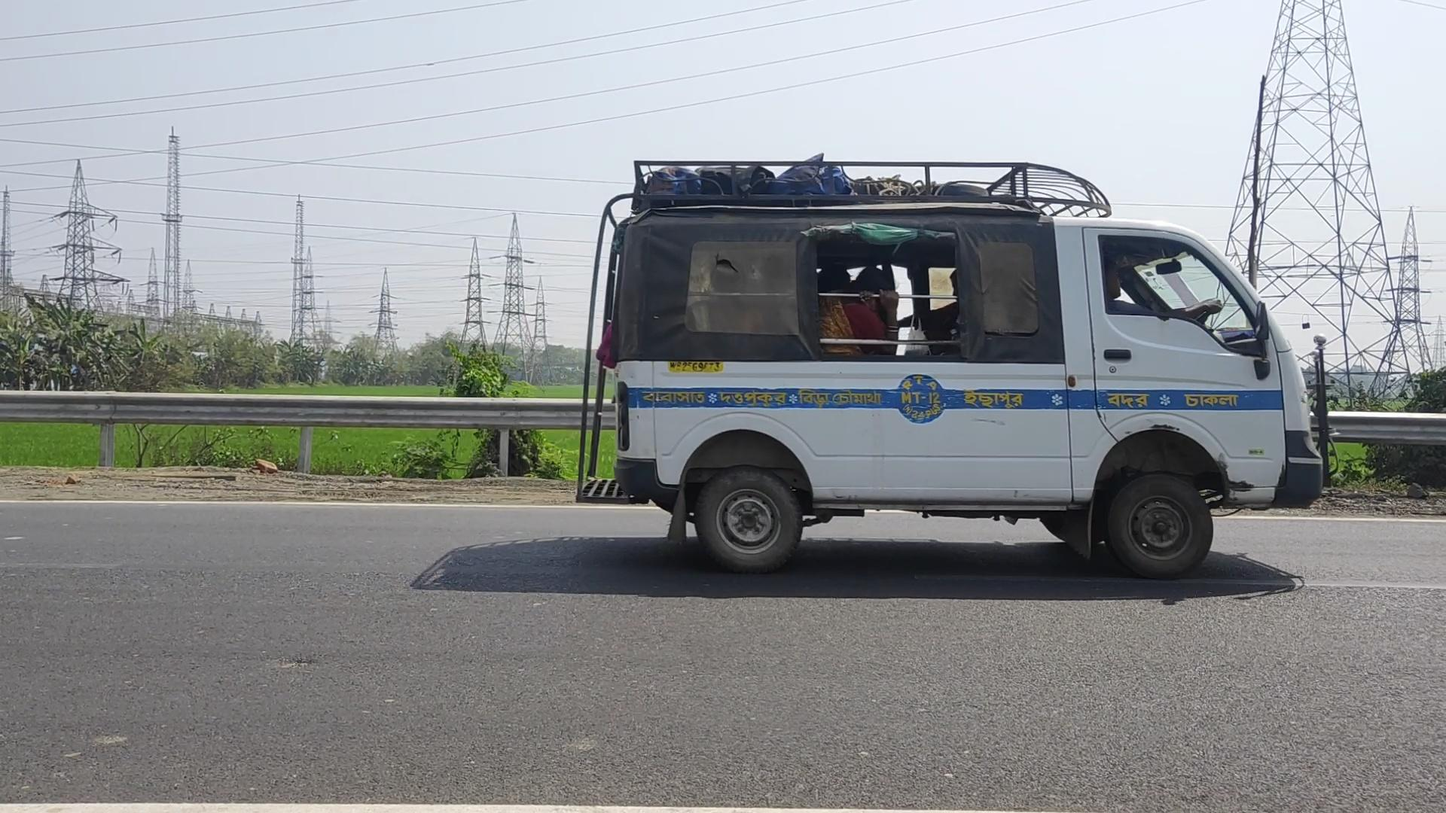van: (574, 160, 1340, 585)
